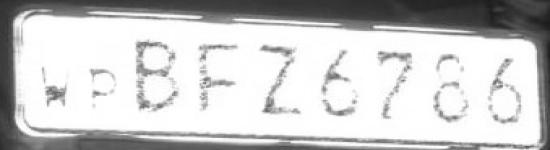6: (314, 42, 366, 124), (479, 53, 531, 130)
7: (370, 44, 423, 126)
8: (425, 48, 479, 130)
B: (129, 35, 183, 118)
F: (190, 36, 247, 117)
P: (83, 64, 125, 117)
W: (34, 61, 78, 109)
Z: (251, 38, 311, 122)
